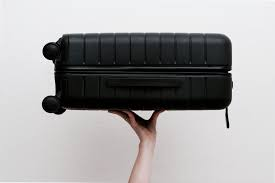suitcase: (39, 31, 236, 119)
